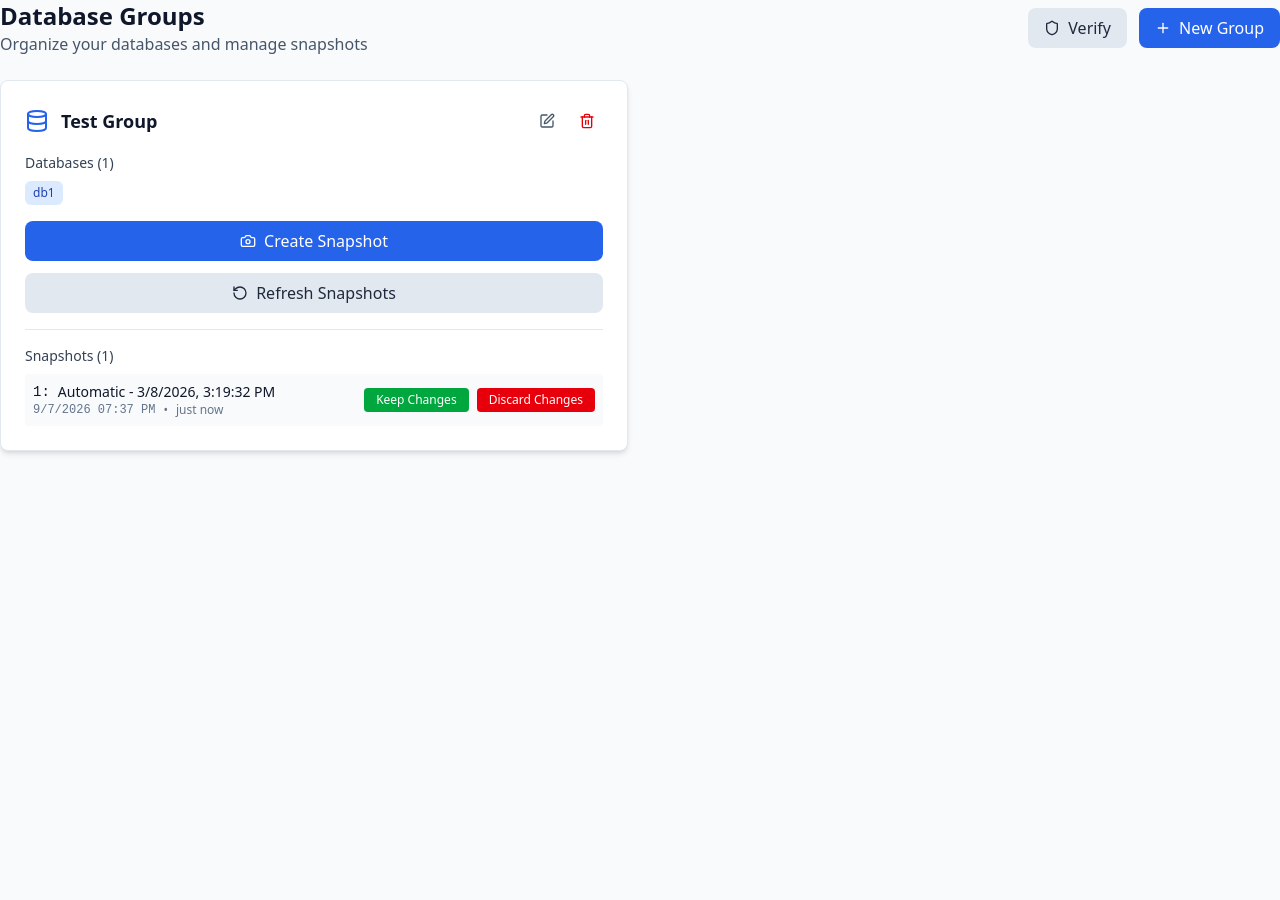
Test: GroupsManager - Discard Changes Modal › should show "will be created" when user checks the checkbox
Check: the heading "Test Group" is shown, box [61,107,158,135]
Step 1. Click the button "Discard Changes" → (536, 400), box [477,388,595,412]
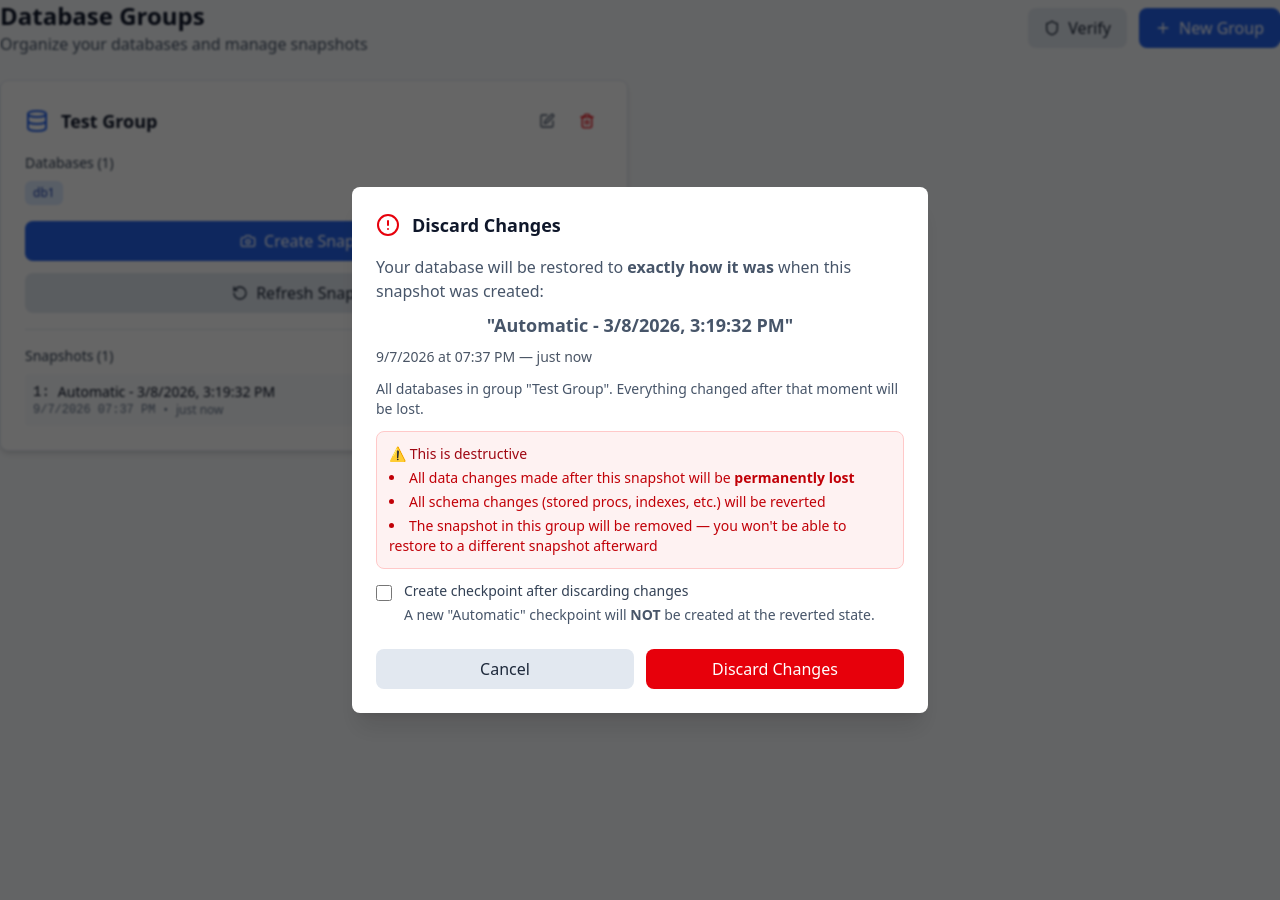
Check: the checkbox labelled "Create checkpoint after discarding changes" is shown
Step 2. Click the checkbox labelled "Create checkpoint after discarding changes" → (384, 593), box [376,585,392,601]
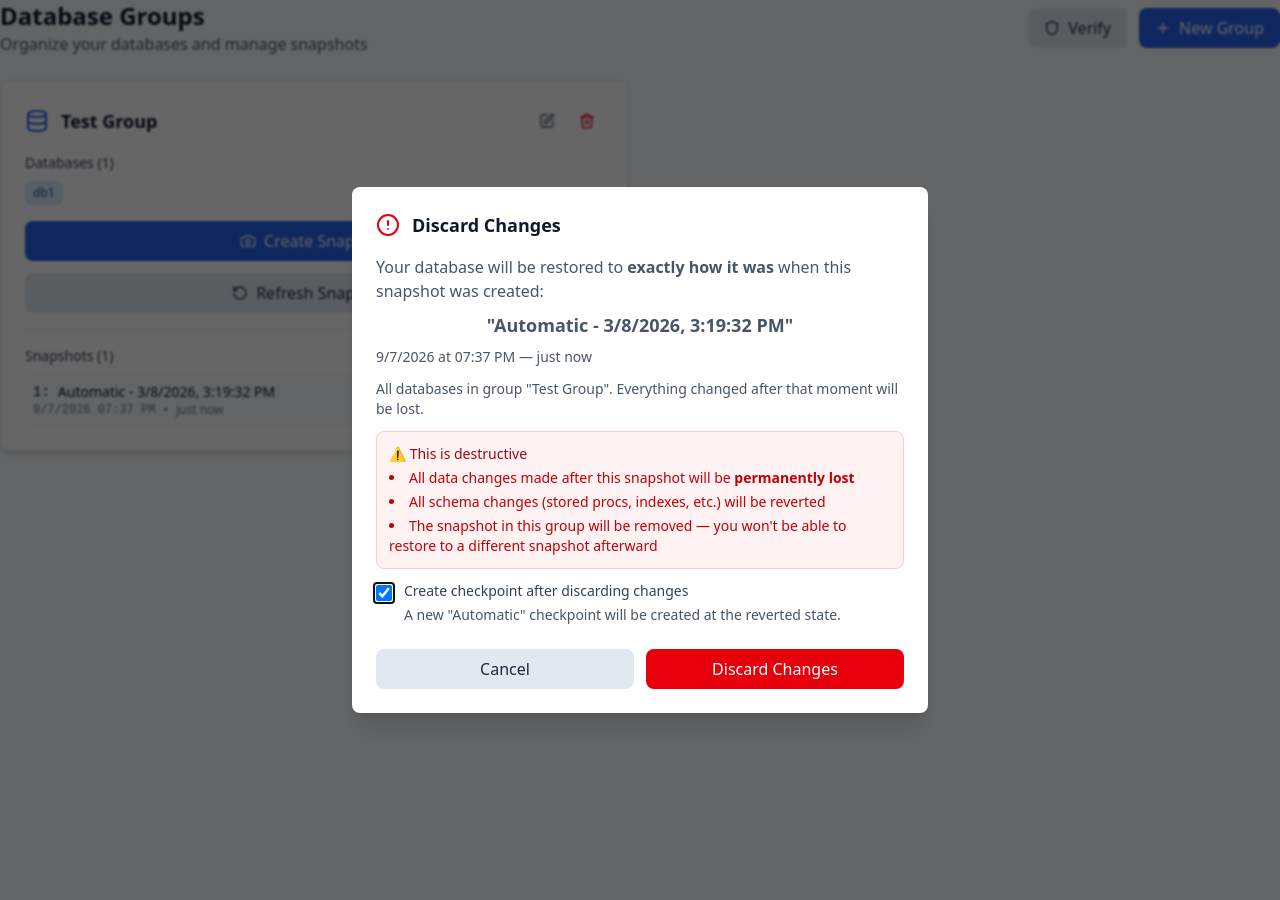
Check: the checkbox labelled "Create checkpoint after discarding changes" is checked, box [376,585,392,601]
Check: the text "will be created" is shown, box [605,605,700,624]
